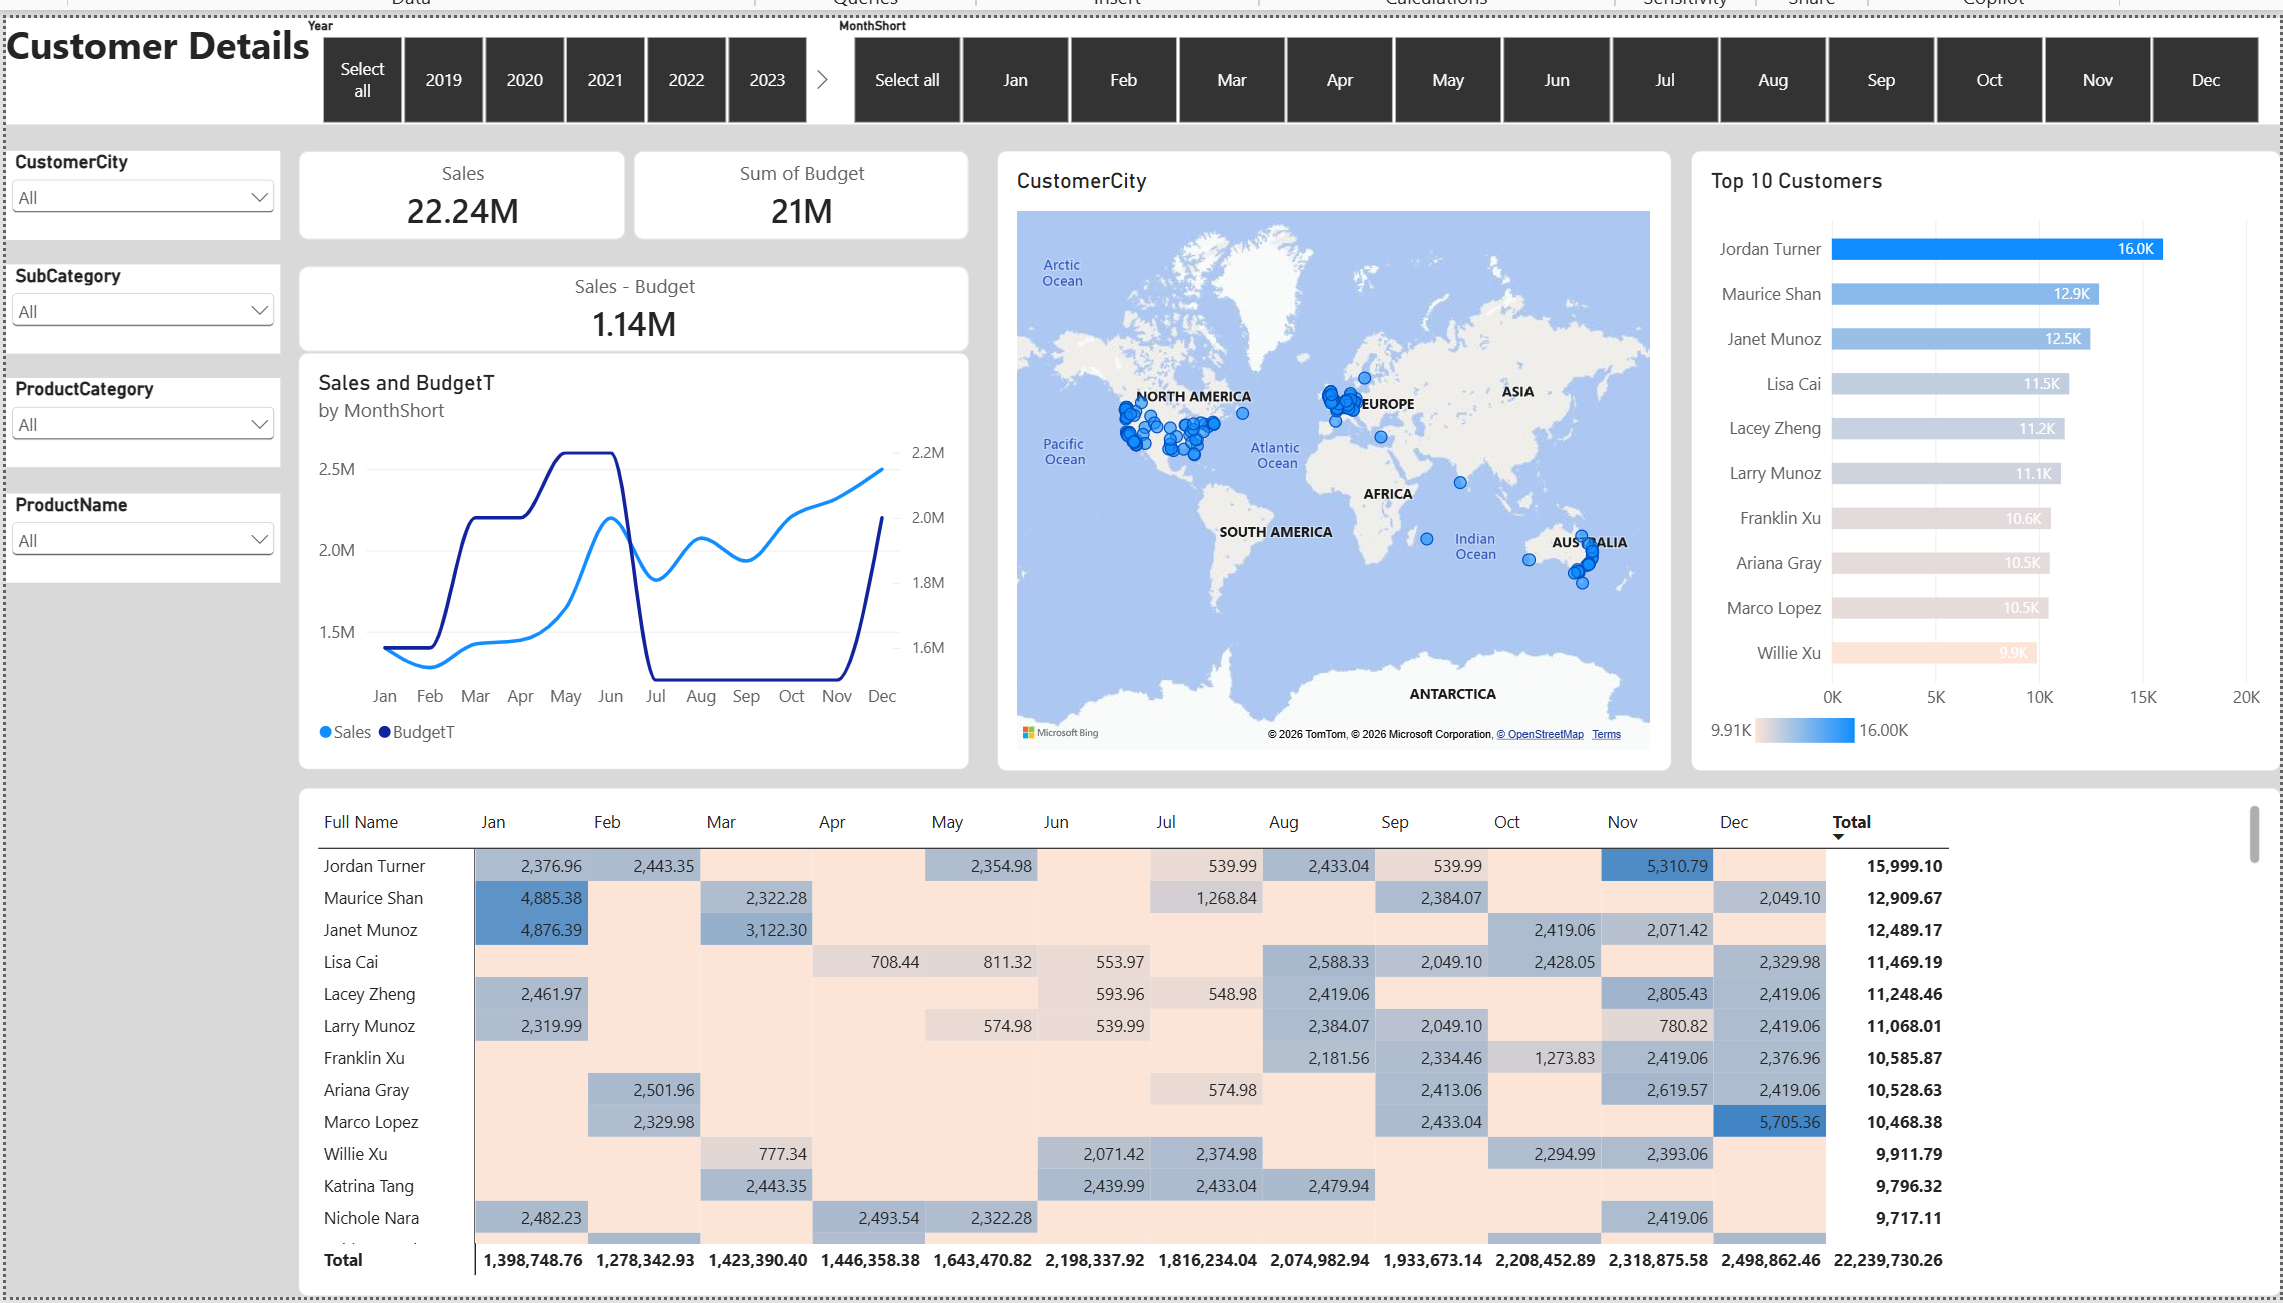

The dashboard page shown, as its layout file describes it:
{"tool":"powerbi","page":{"name":"Customer Details ","canvas":[1920,1080],"ordinal":1},"visuals":[{"type":"textbox","box":[0,0,1919.9,90.1],"z":0},{"type":"slicer","fields":{"Values":["dim_customers.CustomerCity"]},"box":[0,111.5,231.7,75.1],"z":1000},{"type":"slicer","fields":{"Values":["dim_products.SubCategory"]},"box":[0,208.1,231.7,75.1],"z":2000},{"type":"slicer","fields":{"Values":["dim_products.ProductCategory"]},"box":[0,304.6,231.7,75.1],"z":3000},{"type":"slicer","fields":{"Values":["dim_products.ProductName"]},"box":[0,401.1,231.7,75.1],"z":4000},{"type":"slicer","fields":{"Values":["dim_calendar.Date.Variation.Date Hierarchy.Year"]},"box":[246.7,0,448.3,90.1],"z":5000},{"type":"slicer","fields":{"Values":["dim_calendar.MonthShort"]},"box":[695,0,1224.9,90.1],"z":6000},{"type":"cardVisual","fields":{"Data":["fact_internetSales.Sales"]},"box":[246.7,111.5,276.7,75.1],"z":7000},{"type":"cardVisual","fields":{"Data":["Sum(Fact_budget.Budget)"]},"box":[529.8,111.5,283.2,75.1],"z":8000},{"type":"cardVisual","fields":{"Data":["fact_internetSales.Sales - Budget"]},"box":[246.7,210.2,566.3,72.9],"z":9000},{"type":"lineChart","fields":{"Category":["dim_calendar.MonthShort"],"Y":["Key Measures.Sales"],"Y2":["Key Measures.BudgetT"]},"box":[246.7,283.2,566.3,351.8],"z":11000},{"type":"barChart","title":"Top 10  Customers","fields":{"Category":["dim_customers.Full Name"],"Y":["Key Measures.Sales"]},"box":[1422.2,111.5,497.7,523.4],"z":12000},{"type":"map","fields":{"Category":["dim_customers.CustomerCity"]},"box":[836.6,111.5,568.5,523.4],"z":14000},{"type":"pivotTable","fields":{"Columns":["dim_calendar.MonthShort"],"Rows":["dim_customers.Full Name"],"Values":["Key Measures.Sales"]},"box":[246.7,650,1673.2,429],"z":14001}]}

Visuals, with their boxes on the page's 1920x1080 design canvas (x1, y1, x2, y2). These are canvas units, not pixel positions in the 2283x1303 screenshot, which may show the page scaled, cropped or inside an application window:
textbox: rect(0, 0, 1920, 90)
slicer - dim_customers.CustomerCity: rect(0, 112, 232, 187)
slicer - dim_products.SubCategory: rect(0, 208, 232, 283)
slicer - dim_products.ProductCategory: rect(0, 305, 232, 380)
slicer - dim_products.ProductName: rect(0, 401, 232, 476)
slicer - dim_calendar.Date.Variation.Date Hierarchy.Year: rect(247, 0, 695, 90)
slicer - dim_calendar.MonthShort: rect(695, 0, 1920, 90)
cardVisual - fact_internetSales.Sales: rect(247, 112, 523, 187)
cardVisual - Sum(Fact_budget.Budget): rect(530, 112, 813, 187)
cardVisual - fact_internetSales.Sales - Budget: rect(247, 210, 813, 283)
lineChart - dim_calendar.MonthShort x Key Measures.Sales: rect(247, 283, 813, 635)
"Top 10  Customers" barChart: rect(1422, 112, 1920, 635)
map - dim_customers.CustomerCity: rect(837, 112, 1405, 635)
pivotTable - dim_calendar.MonthShort x dim_customers.Full Name: rect(247, 650, 1920, 1079)
